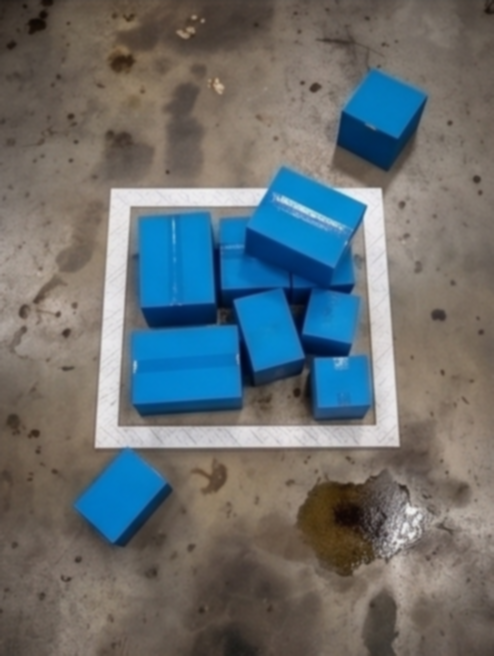blue_box: (243, 164, 368, 289), (75, 443, 175, 550), (131, 324, 243, 417), (338, 67, 427, 171), (141, 214, 218, 329), (234, 288, 305, 387), (220, 218, 292, 309), (301, 287, 362, 358), (310, 355, 372, 418), (292, 246, 354, 306)
container_box: (95, 186, 401, 450)
